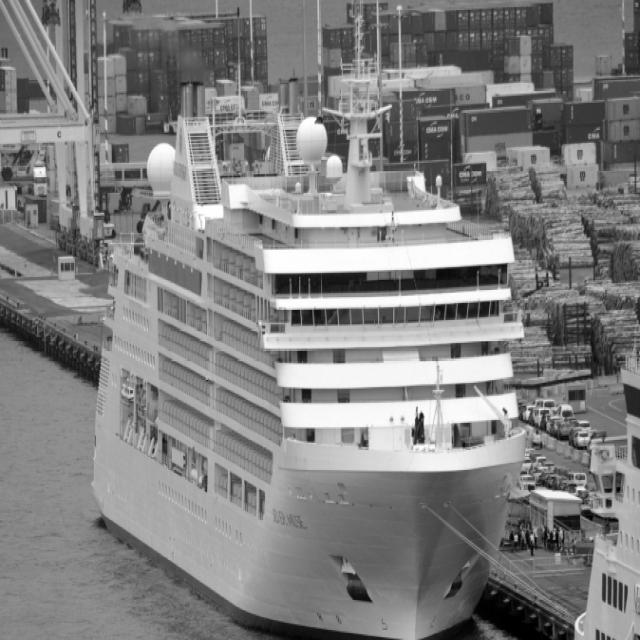cruises: (62, 69, 518, 640)
